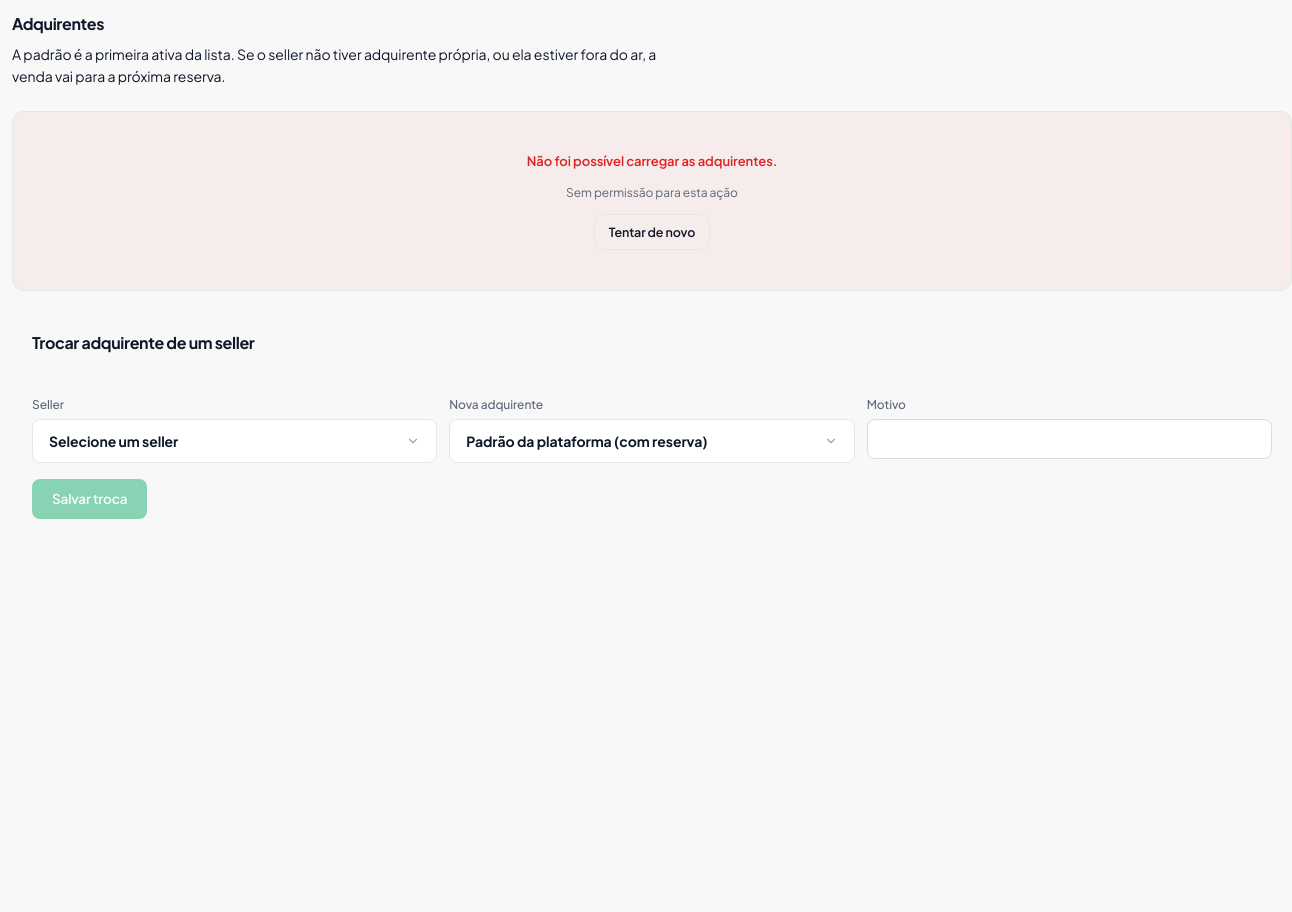
it: AcquirersPanel › erro de carga não vira tabela vazia: mostra o erro e deixa tentar de novo
Expected: the text "Não foi possível carregar as adquirentes." is shown, left=527, top=152, right=777, bottom=172
Click the button "Tentar de novo" at (652, 232), box left=594, top=214, right=710, bottom=250
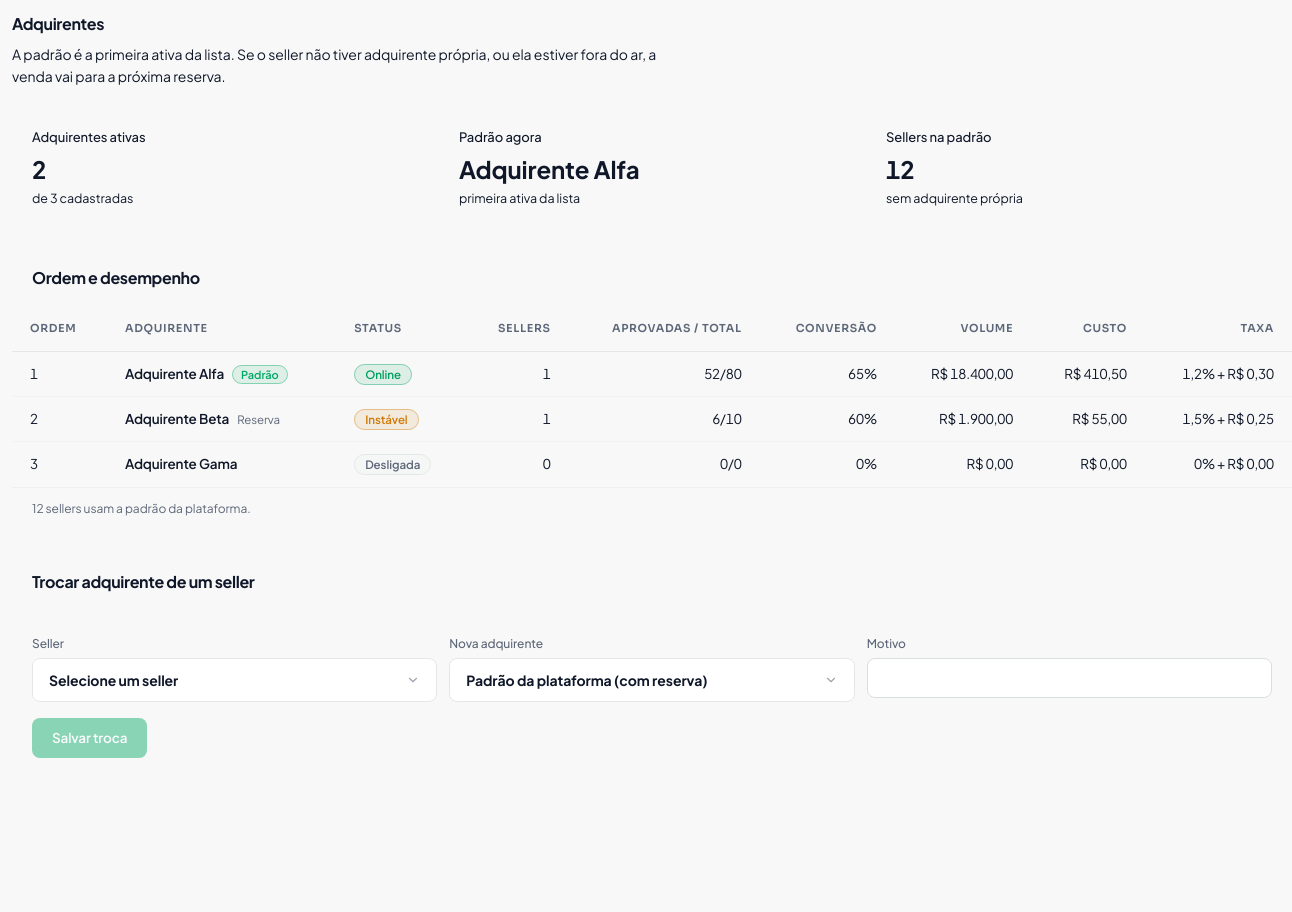
Now the text "Adquirente Alfa" is shown, box left=459, top=154, right=640, bottom=184
